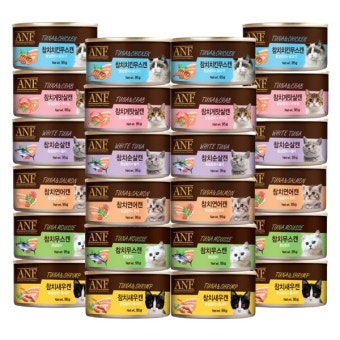paper: (170, 131, 259, 182), (173, 224, 259, 275), (165, 273, 258, 320), (170, 84, 254, 135), (168, 37, 253, 85), (172, 180, 256, 227)
